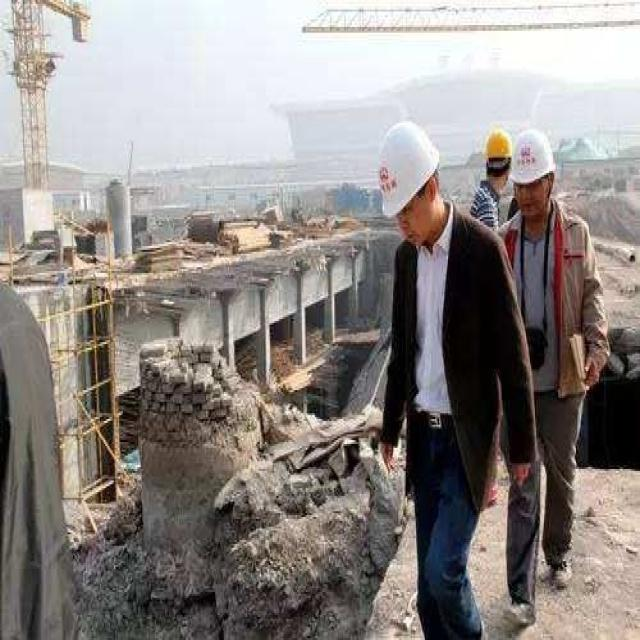helmet: (378, 160, 446, 332), (509, 167, 555, 292), (483, 170, 515, 254)
